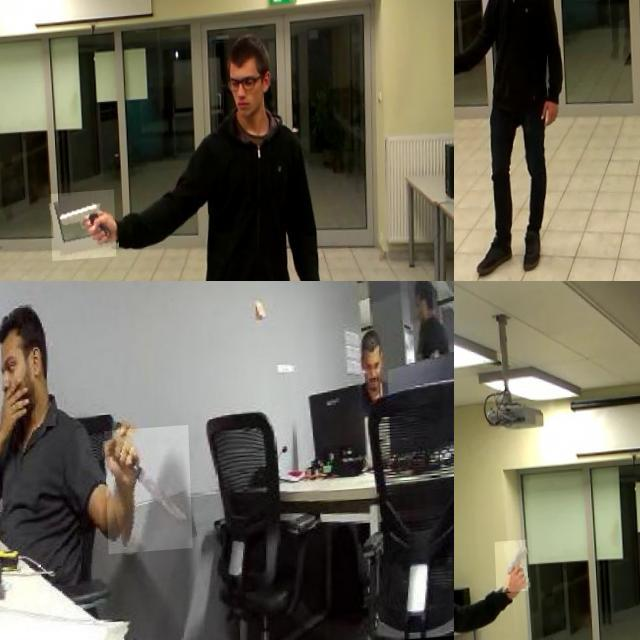-: (100, 431, 188, 558)
gun-knife-thesis - v11 Yolov5 augmented: (48, 194, 114, 264), (492, 542, 526, 594), (454, 57, 474, 95)
